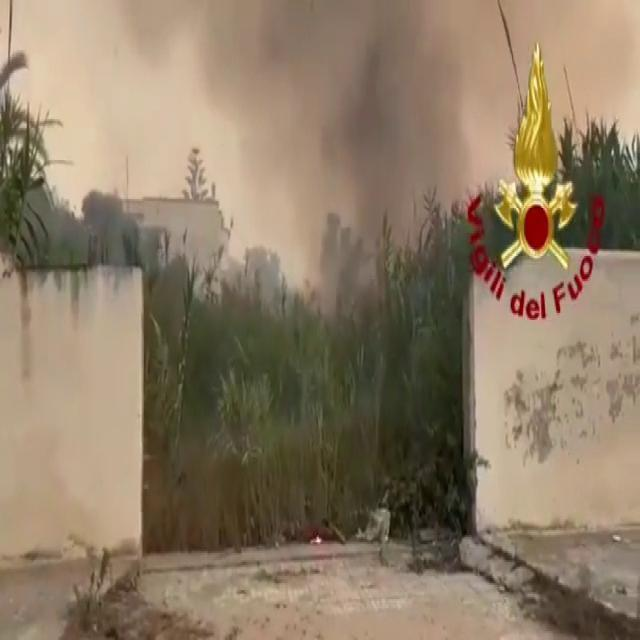Smoke: (208, 1, 473, 298)
